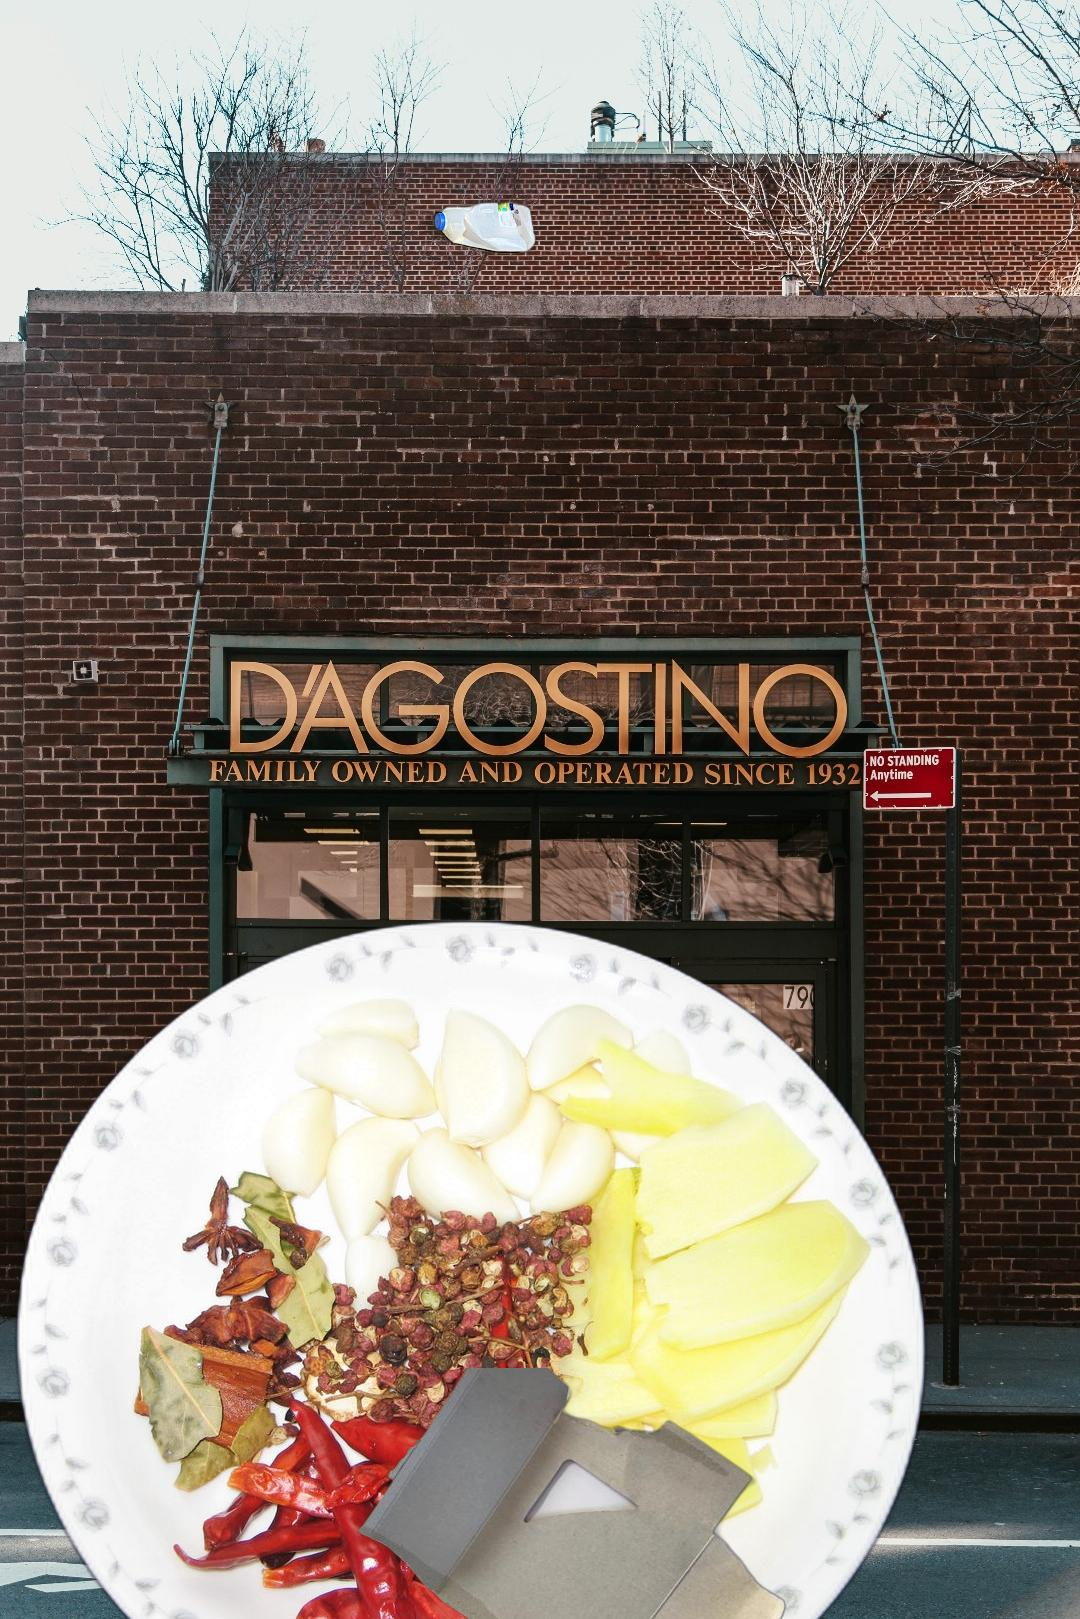biological: (5, 913, 937, 1619)
paper: (354, 1368, 790, 1619)
plastic-bottles: (417, 196, 541, 259)
trashbox-cardboard: (1079, 747, 1080, 1619)
